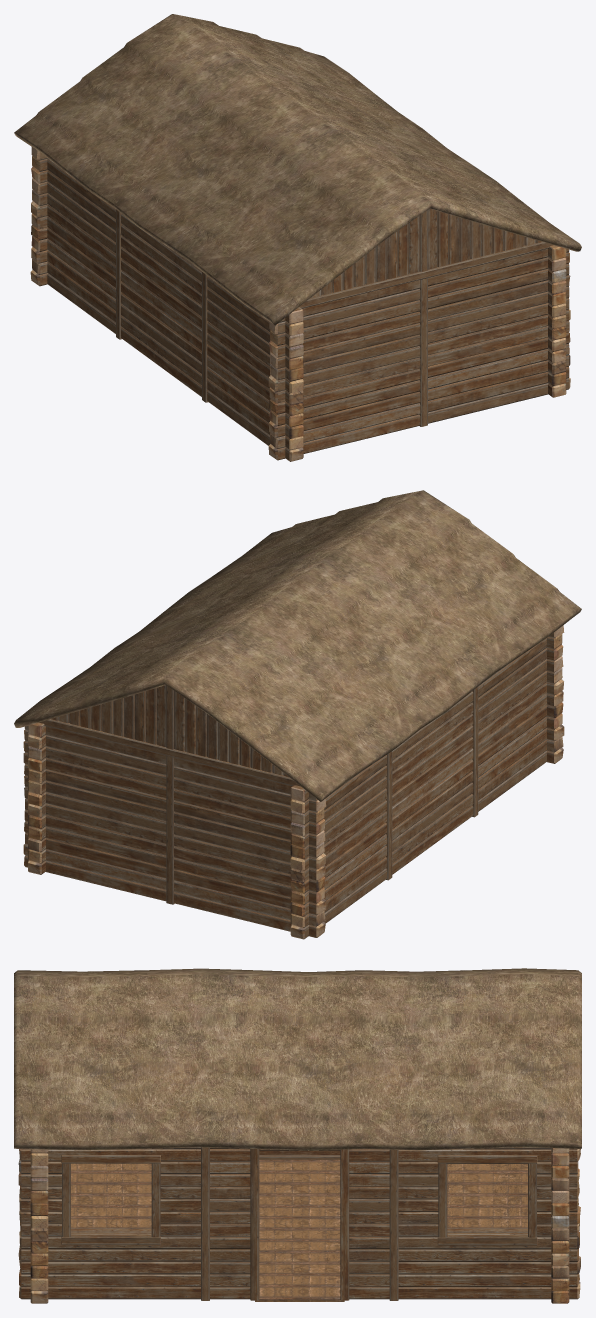
The model's file is housepro2.glb.
3 renders of one model, top to bottom at view 1: azimuth 30°, elevation 25°; view 2: azimuth 150°, elevation 25°; view 3: azimuth 270°, elevation 25°, orthographic. The views are drawn at different scales.
Visible parts, largest first — view 1: Cube.114_Cube.022_2; view 2: Cube.114_Cube.022_2; view 3: Cube.114_Cube.022_2.
Part boxes in pixels (left/top/right/bottom): Cube.114_Cube.022_2: left=14, top=14, right=581, bottom=461; Cube.114_Cube.022_2: left=14, top=490, right=581, bottom=939; Cube.114_Cube.022_2: left=14, top=968, right=581, bottom=1303.
Bounding box in the file's own units: 4.34 × 3.14 × 6.33.
1 material, 1 textured.
